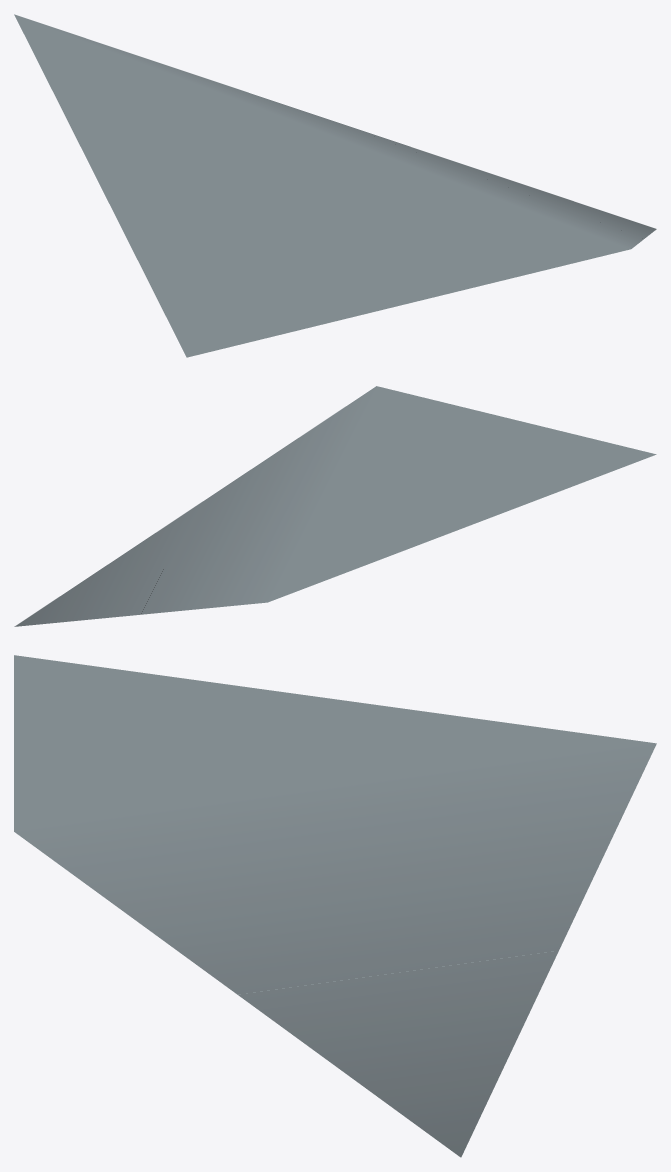
The model's file is rock-small.glb.
The picture shows the model from 3 angles, top to bottom: view 1: azimuth 30°, elevation 25°; view 2: azimuth 150°, elevation 25°; view 3: azimuth 270°, elevation 25°; orthographic projection. The views are drawn at different scales.
Visible parts, largest first — view 1: rock_single_A; view 2: rock_single_A; view 3: rock_single_A.
Boxes of the visible parts, bbox=[...] form: rock_single_A: bbox=[14, 14, 656, 357]; rock_single_A: bbox=[14, 386, 656, 626]; rock_single_A: bbox=[14, 655, 656, 1157].
Bounding box in the file's own units: 0.2125 × 0.0693 × 0.1952.
Materials: 1 (1 with a texture image).
